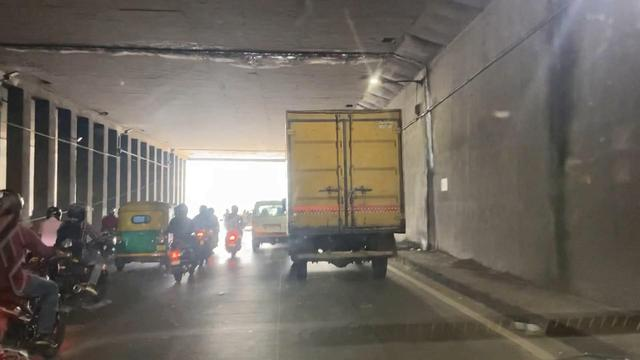HMV: (283, 110, 406, 277)
LMV: (166, 206, 196, 277), (251, 199, 283, 252), (221, 202, 245, 263)
